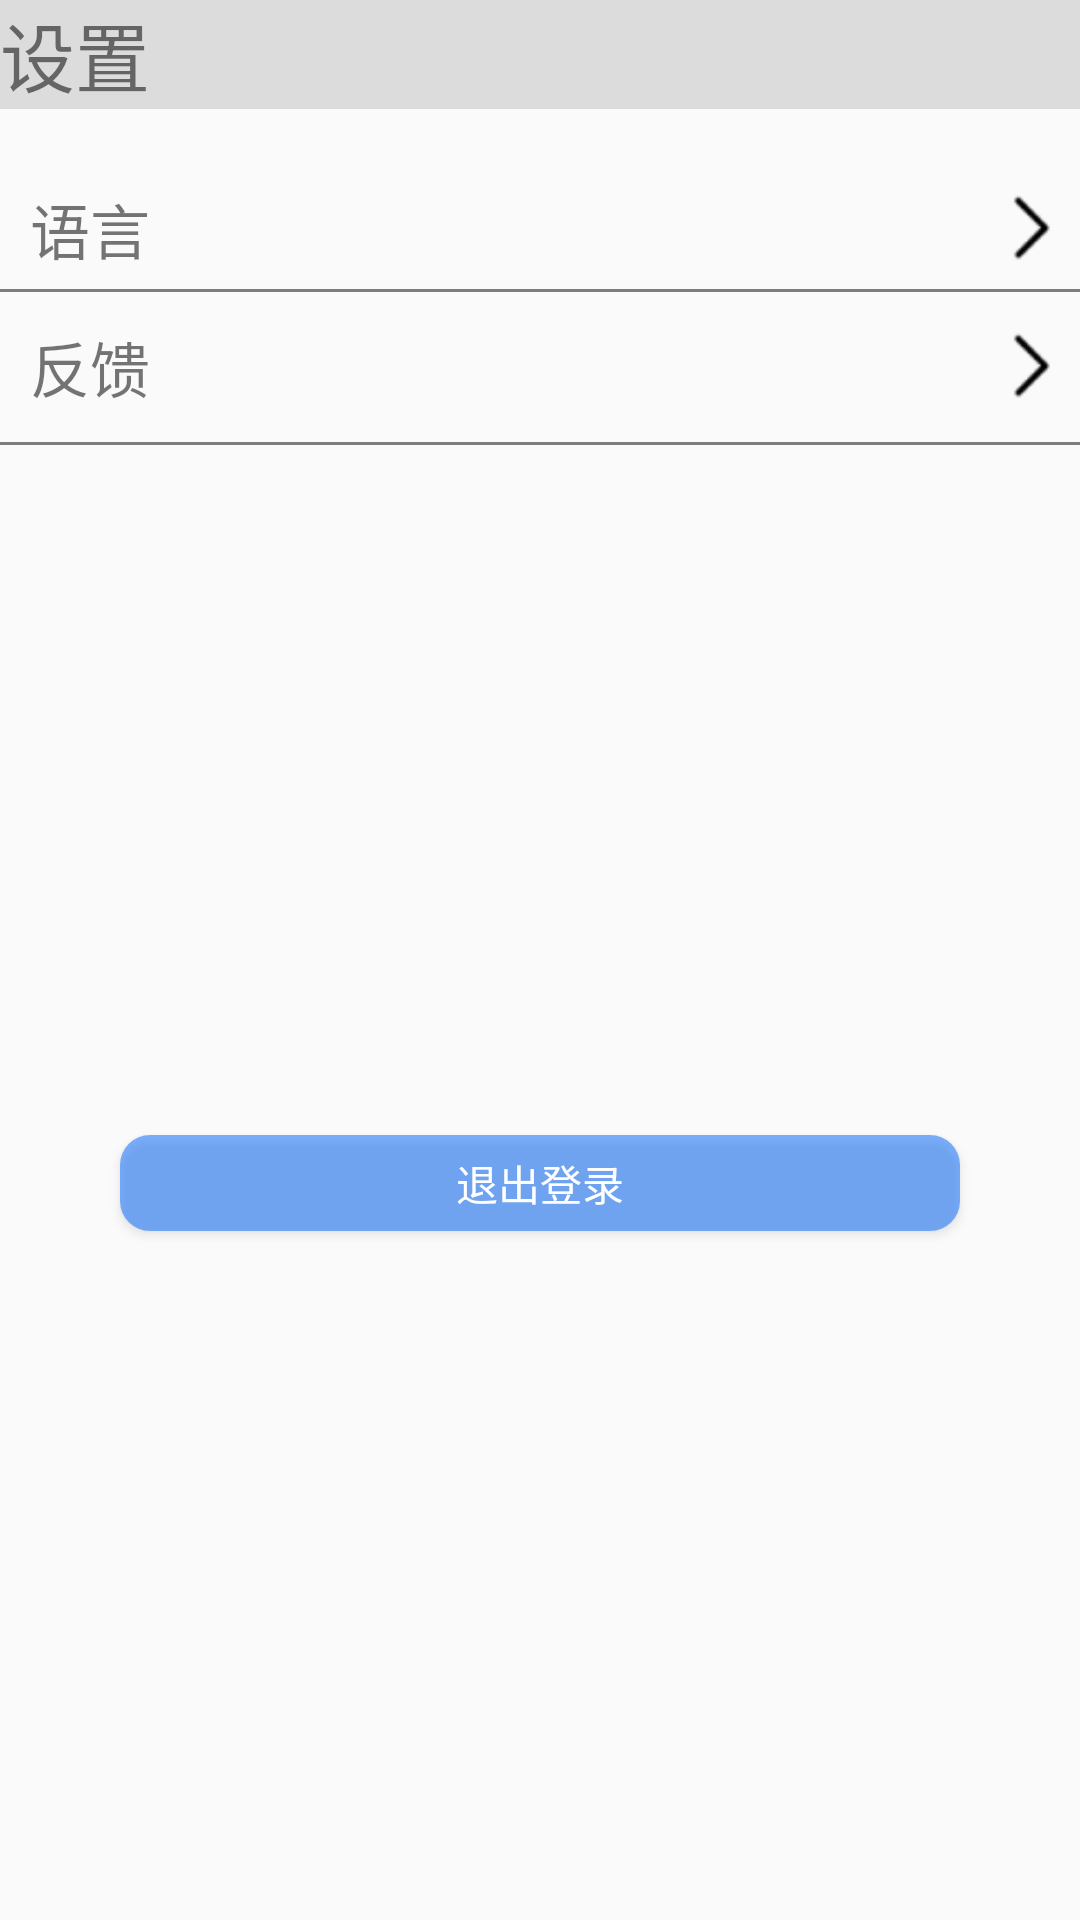

Icons on this 1080x1920 Android screen, each with the point to tap as (x,y):
right: (1032,227), (1032,365)
